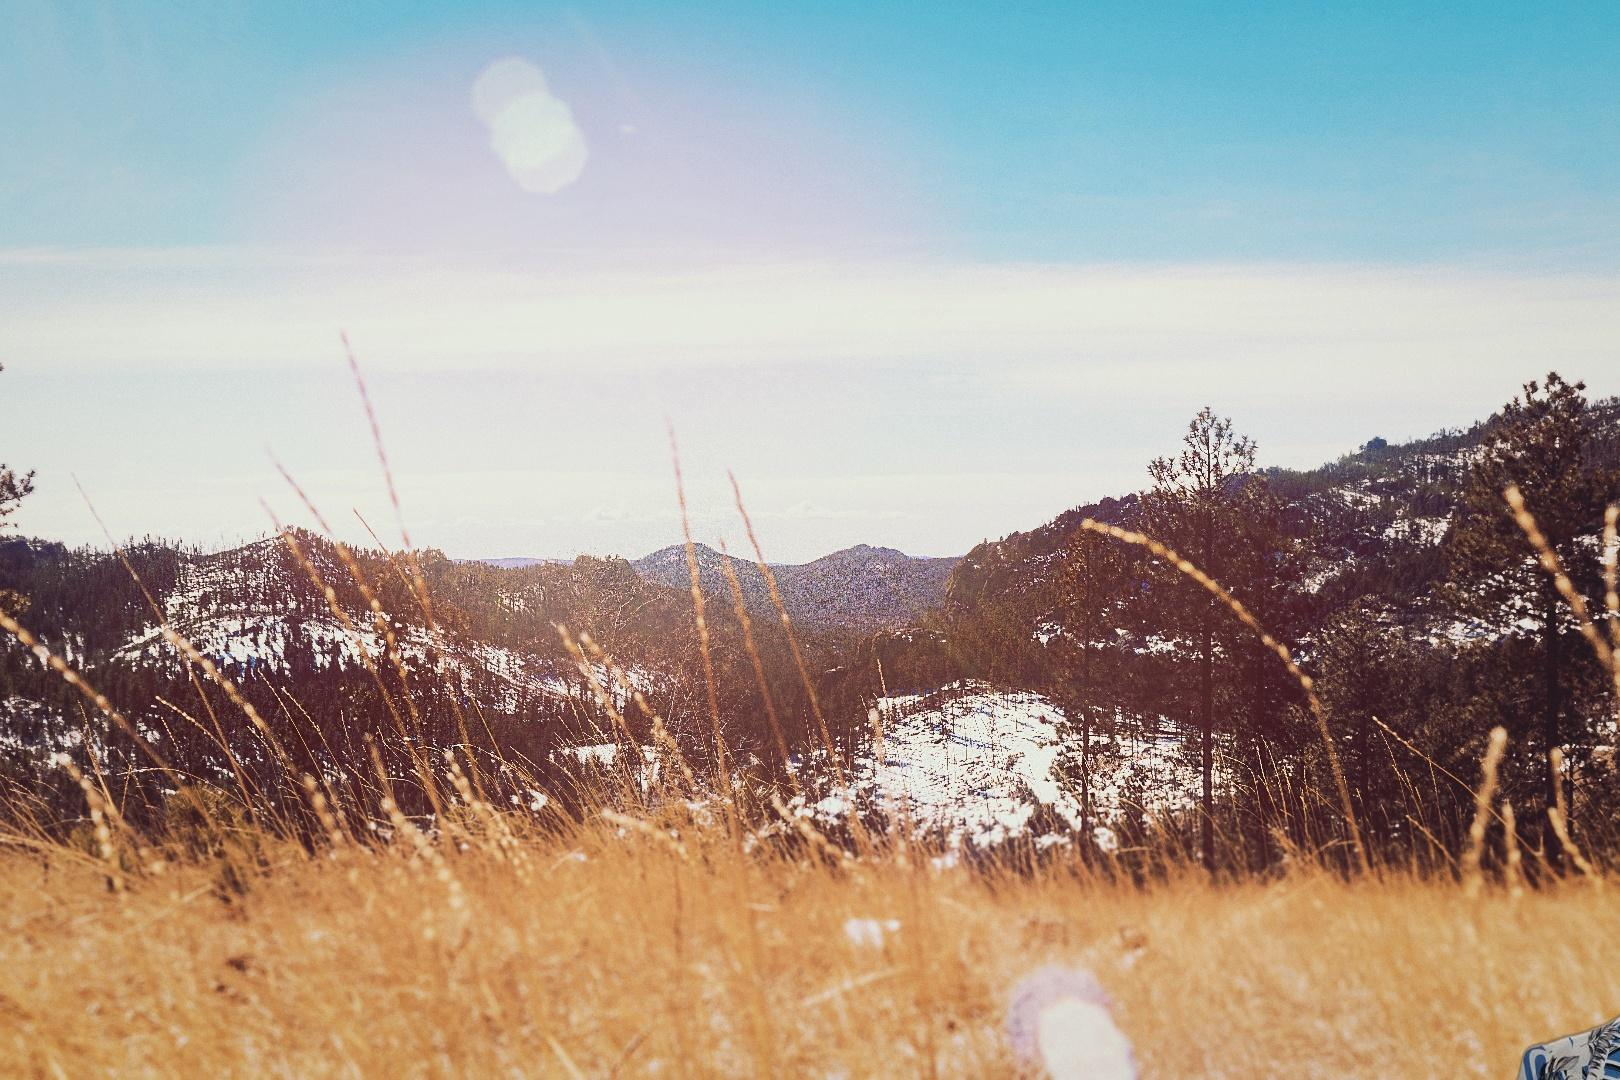clothes: (1489, 915, 1620, 1080)
